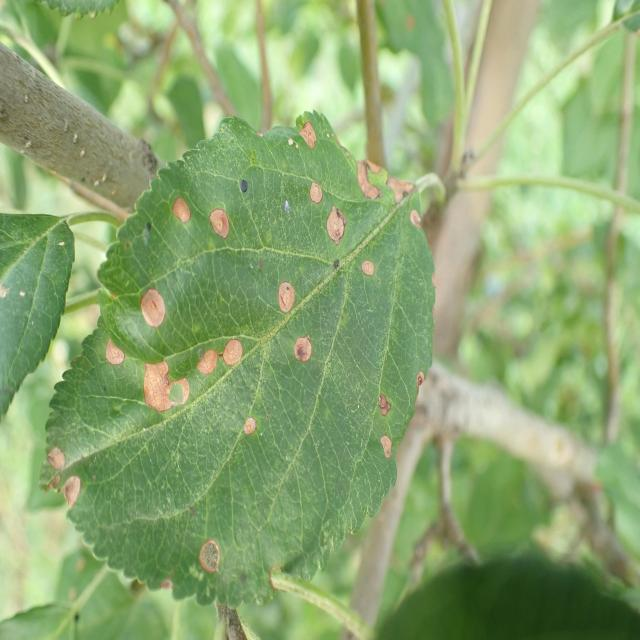Black Rot: (31, 408, 84, 528), (133, 357, 195, 425), (346, 121, 386, 215), (200, 184, 244, 261), (387, 143, 424, 222), (182, 521, 228, 582), (166, 180, 202, 245), (136, 276, 172, 338), (281, 332, 331, 375), (257, 272, 301, 315), (370, 362, 395, 434), (292, 102, 324, 157), (98, 329, 130, 382), (322, 194, 346, 254), (369, 431, 408, 467), (298, 160, 324, 214), (232, 402, 266, 442), (357, 248, 384, 297), (405, 358, 430, 408), (194, 336, 217, 388), (220, 337, 249, 372), (407, 207, 422, 241)
